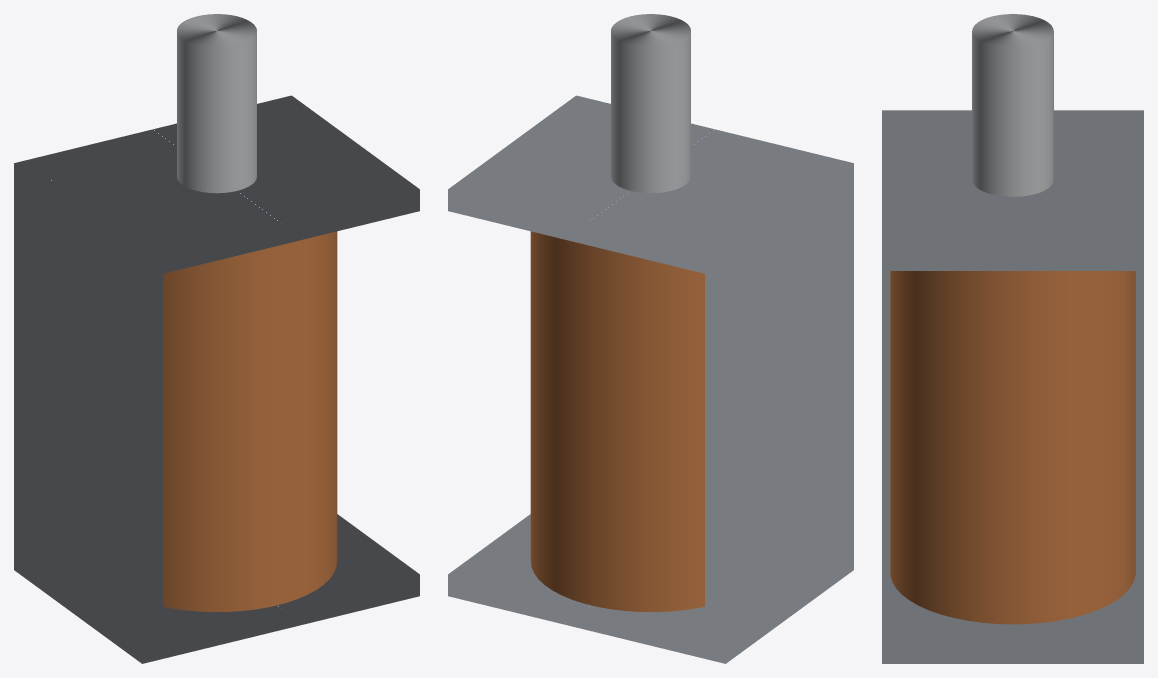
Rendered from solenoid.obj.
3 views of the same model, side by side, from view 1: azimuth 30°, elevation 25°; view 2: azimuth 150°, elevation 25°; view 3: azimuth 270°, elevation 25° (orthographic). The views are drawn at different scales.
Parts seen in each view (by area): view 1: coil, frame_3, frame_2, plunger, frame; view 2: coil, frame_3, frame_2, plunger, frame; view 3: coil, frame_2, frame, plunger, frame_3.
Part boxes in pixels (x1,y1,x2,y2): coil: [163, 231, 337, 611]; frame_3: [14, 158, 162, 663]; frame_2: [14, 95, 419, 278]; plunger: [177, 14, 256, 193]; frame: [14, 514, 419, 663]; coil: [530, 231, 704, 611]; frame_3: [705, 158, 853, 663]; frame_2: [448, 95, 853, 278]; plunger: [611, 14, 690, 193]; frame: [448, 514, 853, 663]; coil: [890, 271, 1135, 624]; frame_2: [882, 110, 1143, 270]; frame: [882, 513, 1143, 663]; plunger: [972, 14, 1053, 196]; frame_3: [882, 110, 1143, 513].
Size of the model in its own units: 0.02 by 0.038 by 0.016.
